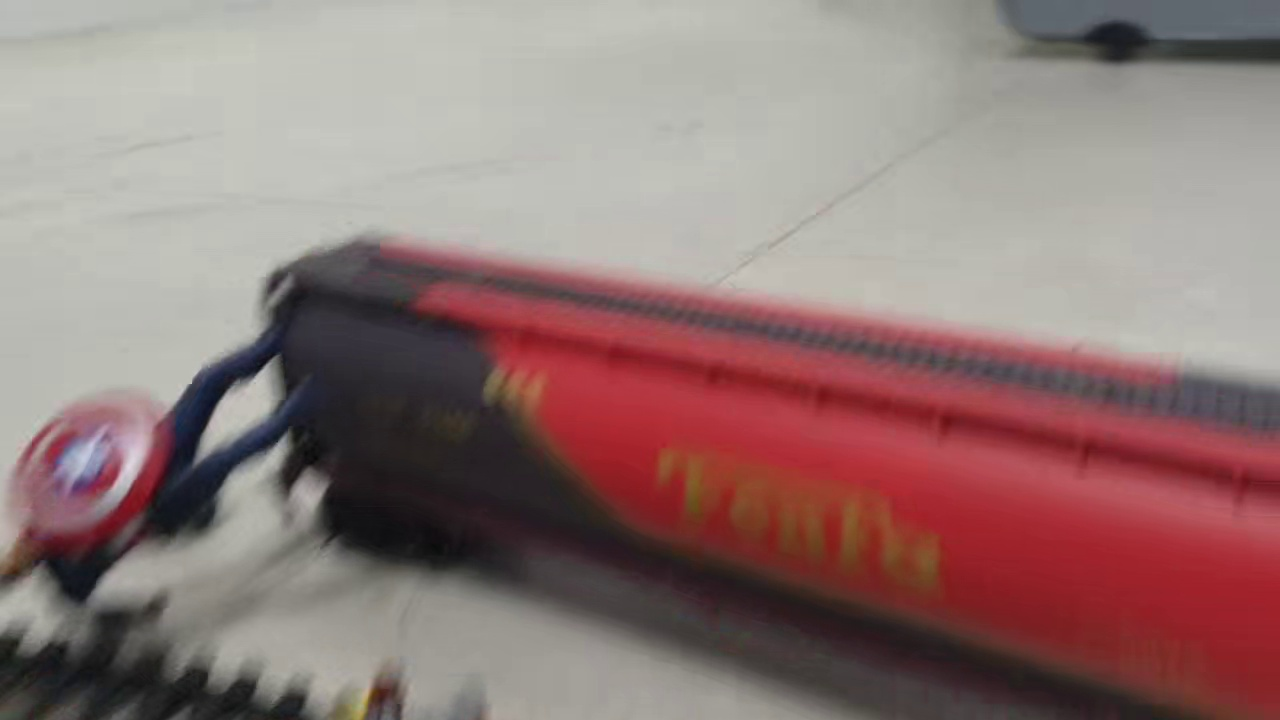people: (1, 294, 322, 611)
